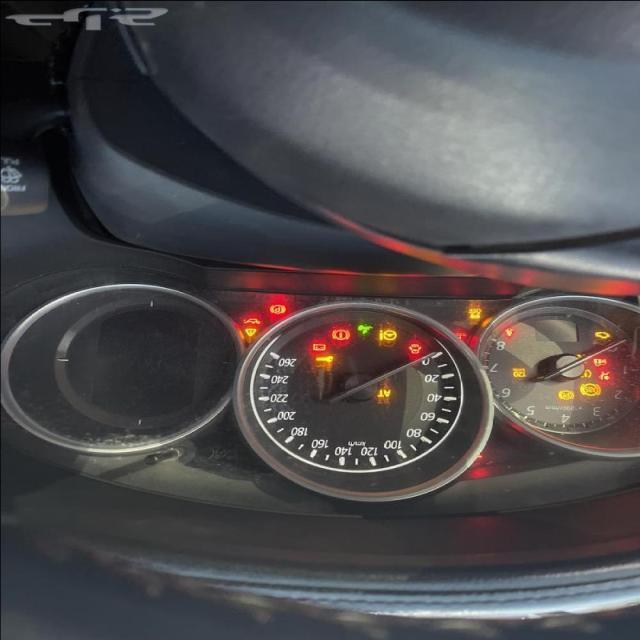Electronic Power Steering: (378, 328, 396, 341)
High Engine Coolant Temperature: (454, 332, 466, 343)
Seat Belt: (505, 327, 513, 337)
